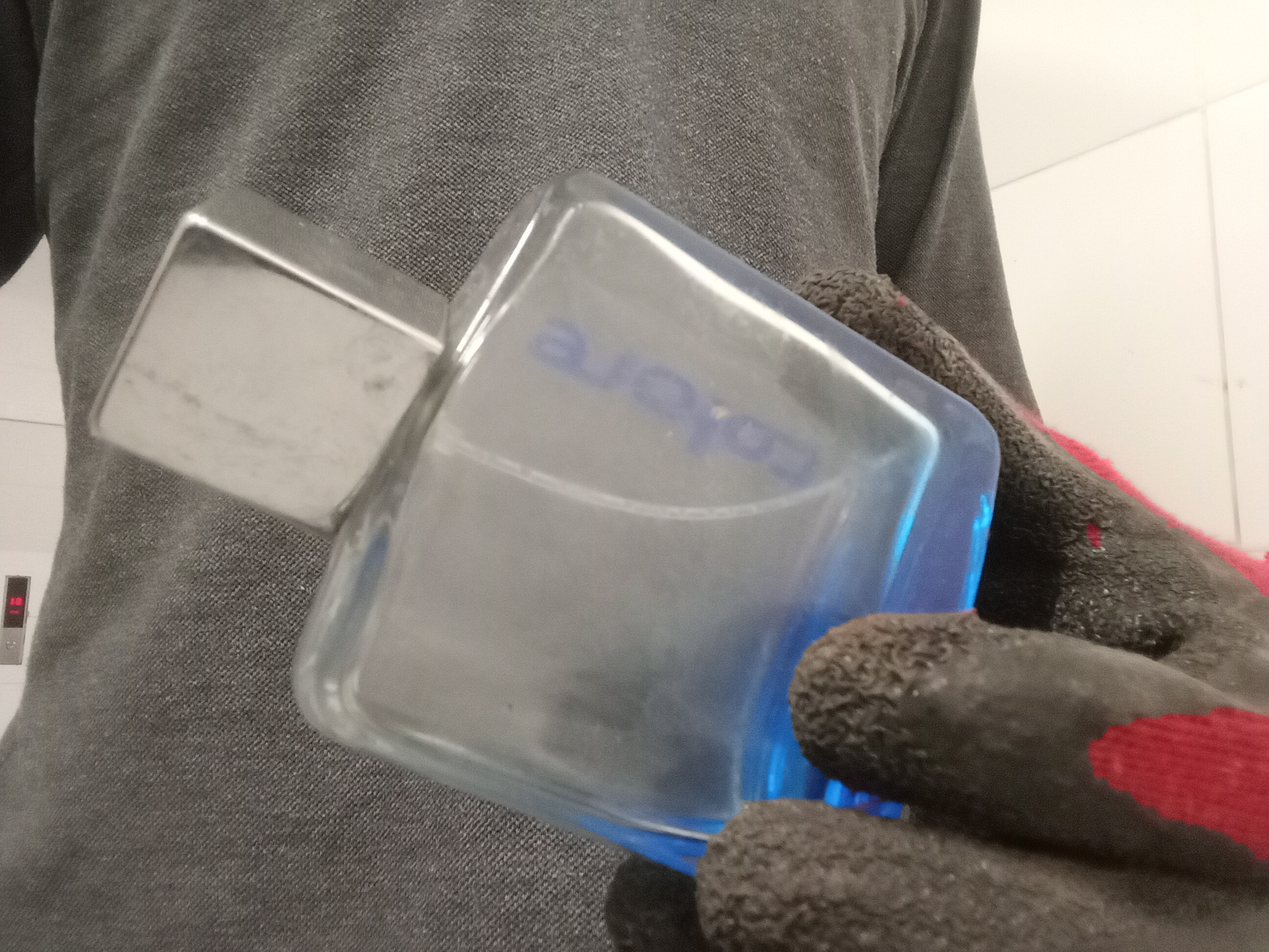Vidrio: (289, 174, 1006, 917)
